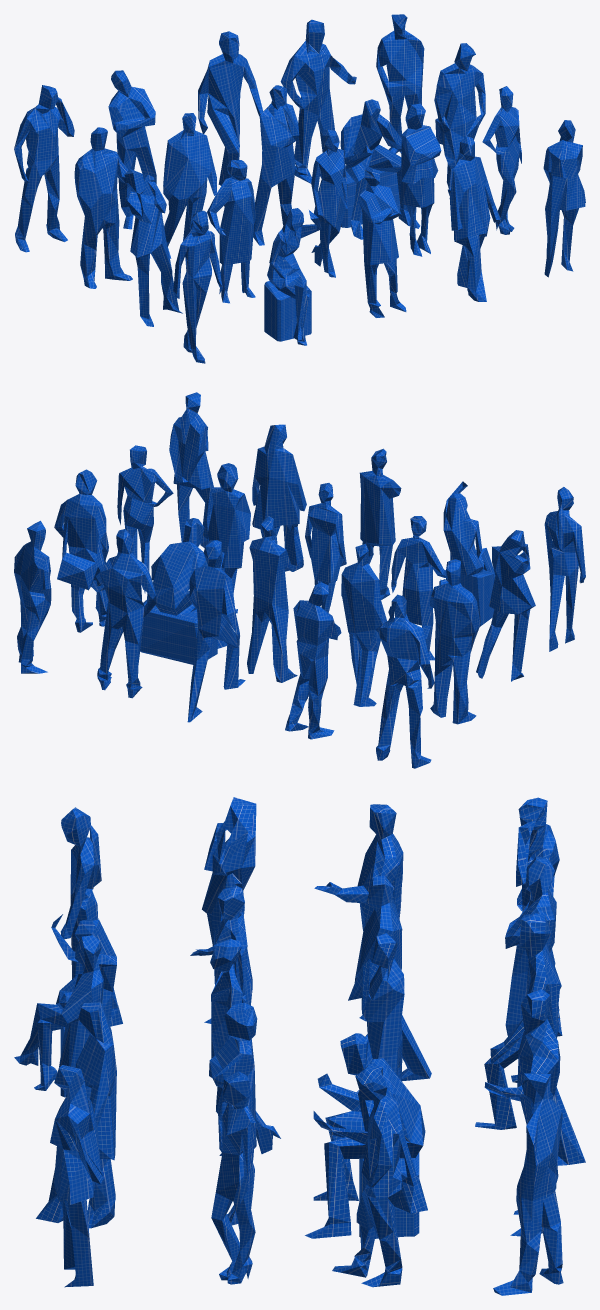
Rendered from freebie_-_lowpoly_people.glb.
3 views of the same model, one above another, from view 1: azimuth 30°, elevation 25°; view 2: azimuth 150°, elevation 25°; view 3: azimuth 270°, elevation 25° (orthographic). The views are drawn at different scales.
Visible parts, largest first — view 1: Man01, Man06, Man09, Woman04, Man08, Man02, Woman06, Man05, Man03, Man04, Woman07, Woman05 (+10 smaller); view 2: Man09, Man01, Man05, Man06, Man08, Man03, Woman04, Man07, Man02, Woman06, Woman05, Woman01 (+10 smaller); view 3: Man05, Man04, Man10, Woman05, Woman10, Woman04, Man08, Man03, Woman06, Woman02, Woman01, Man09 (+9 smaller).
Part boxes in pixels (x1,y1,x2,y2): Man01: (74, 127, 154, 288); Man06: (14, 85, 74, 252); Man09: (280, 19, 356, 183); Woman04: (449, 136, 500, 301); Man08: (198, 31, 263, 185); Man02: (163, 113, 216, 258); Woman06: (124, 169, 182, 326); Man05: (434, 43, 485, 195); Man03: (253, 85, 299, 245); Man04: (340, 99, 420, 239); Woman07: (207, 160, 255, 303); Woman05: (543, 120, 585, 277); Man09: (95, 529, 156, 698); Man01: (430, 559, 480, 724); Man05: (54, 469, 108, 632); Man06: (376, 594, 434, 768); Man08: (187, 540, 245, 722); Man03: (247, 516, 297, 682); Woman04: (252, 424, 306, 571); Man07: (285, 582, 341, 739); Man02: (341, 543, 386, 706); Woman06: (476, 530, 535, 681); Woman05: (169, 392, 213, 548); Woman01: (544, 487, 585, 651); Man05: (332, 1064, 427, 1287); Man04: (305, 1033, 425, 1238); Man10: (493, 1073, 563, 1295); Woman05: (50, 1065, 103, 1287); Woman10: (211, 1071, 256, 1284); Woman04: (36, 1002, 116, 1228); Man08: (475, 913, 585, 1165); Man03: (361, 933, 404, 1080); Woman06: (202, 797, 256, 1023); Woman02: (14, 914, 116, 1090); Woman01: (60, 807, 122, 1026); Man09: (484, 989, 560, 1236).
Bounding box in the file's own units: 4.64 × 1.78 × 3.77.
Materials: 1 (1 with a texture image).
